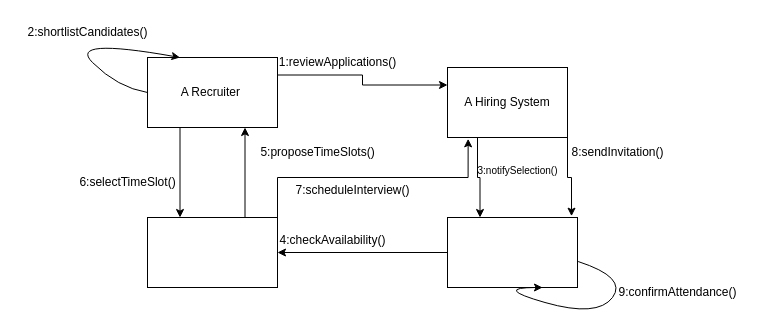
Image size: 764x326. Some labels were removed from this diagram. The shapes that lost their labels are listed below. From the top down, each one's centre as x and y in pixels, then its label:
At (212,252): "A Calendar System".
At (512,252): "A Candidate".
